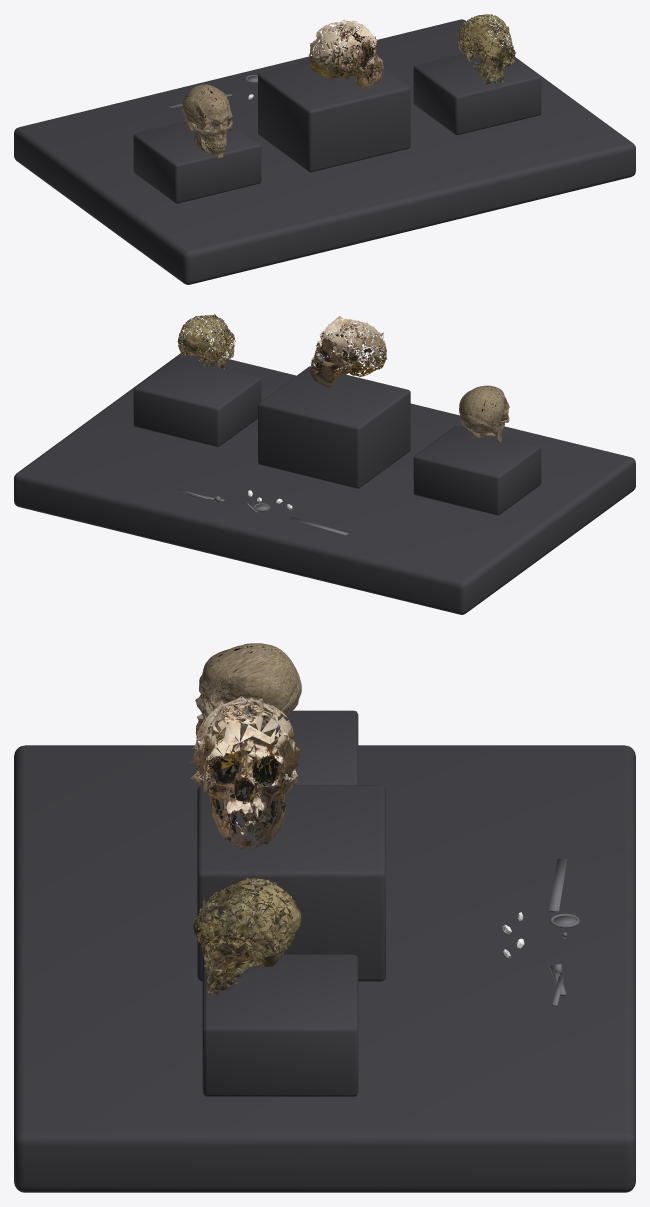
The model's file is museum-bukti-dan-hipotesis.glb.
3 views of the same model, one above another, from view 1: azimuth 30°, elevation 25°; view 2: azimuth 150°, elevation 25°; view 3: azimuth 270°, elevation 25° (orthographic). The views are drawn at different scales.
Visible parts, largest first — view 1: Museum_Platform, Pedestal_Center, Pedestal_Right, Pedestal_Left, Object_3.003, Object_4, Object_3, Object_2.001, Object_3.001, Object_5, Object_4.001, Object_5.001 (+2 smaller); view 2: Museum_Platform, Pedestal_Center, Pedestal_Right, Pedestal_Left, Object_3, Object_3.003, Object_4, Object_5.001, Object_5, Object_6.001, Object_4.001, Object_2.001; view 3: Museum_Platform, Pedestal_Center, Pedestal_Right, Object_3, Object_3.003, Pedestal_Left, Object_4, Object_5.001, Object_3.001, Object_2.001, Object_4.001, Object_5 (+1 smaller).
Part boxes in pixels (box(x1,y1,x2,y2)): Museum_Platform: box(14, 19, 635, 284); Pedestal_Center: box(258, 50, 410, 172); Pedestal_Right: box(413, 46, 541, 135); Pedestal_Left: box(133, 122, 261, 203); Object_3.003: box(182, 84, 232, 158); Object_4: box(310, 25, 383, 87); Object_3: box(313, 19, 383, 81); Object_2.001: box(473, 24, 516, 85); Object_3.001: box(466, 15, 513, 79); Object_5: box(308, 22, 383, 87); Object_4.001: box(458, 15, 514, 68); Object_5.001: box(458, 14, 513, 64); Museum_Platform: box(14, 352, 635, 614); Pedestal_Center: box(258, 366, 410, 488); Pedestal_Right: box(133, 357, 261, 446); Pedestal_Left: box(413, 426, 541, 515); Object_3: box(309, 315, 362, 388); Object_3.003: box(459, 385, 509, 442); Object_4: box(315, 319, 386, 376); Object_5.001: box(177, 316, 234, 360); Object_5: box(311, 320, 386, 377); Object_6.001: box(178, 318, 234, 365); Object_4.001: box(183, 315, 235, 364); Object_2.001: box(196, 315, 234, 369); Museum_Platform: box(14, 745, 635, 1192); Pedestal_Center: box(197, 785, 385, 981); Pedestal_Right: box(202, 954, 358, 1096); Object_3: box(209, 704, 302, 848); Object_3.003: box(195, 643, 301, 756); Pedestal_Left: box(202, 710, 358, 785); Object_4: box(190, 696, 284, 847); Object_5.001: box(196, 878, 295, 967); Object_3.001: box(195, 882, 259, 990); Object_2.001: box(196, 889, 240, 994); Object_4.001: box(198, 878, 274, 985); Object_5: box(190, 699, 298, 847).
Size of the model in its own units: 4.2 by 1.45 by 2.8.
8 materials, 4 textured.
